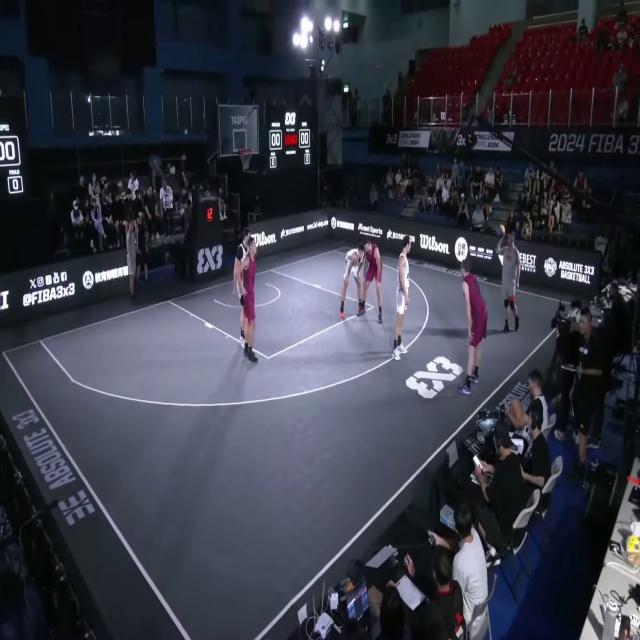hoop: (239, 147, 253, 172)
player: (459, 256, 488, 397), (232, 229, 255, 353), (237, 236, 258, 364), (393, 234, 413, 359), (359, 239, 382, 327), (339, 243, 365, 320)
